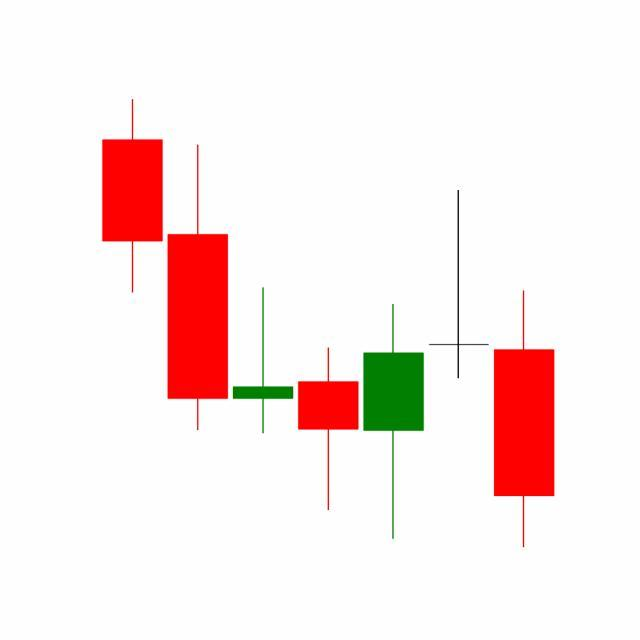Three Outside Up-Down: (295, 188, 492, 545)
